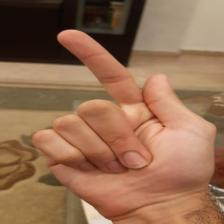five: (33, 26, 219, 204)
